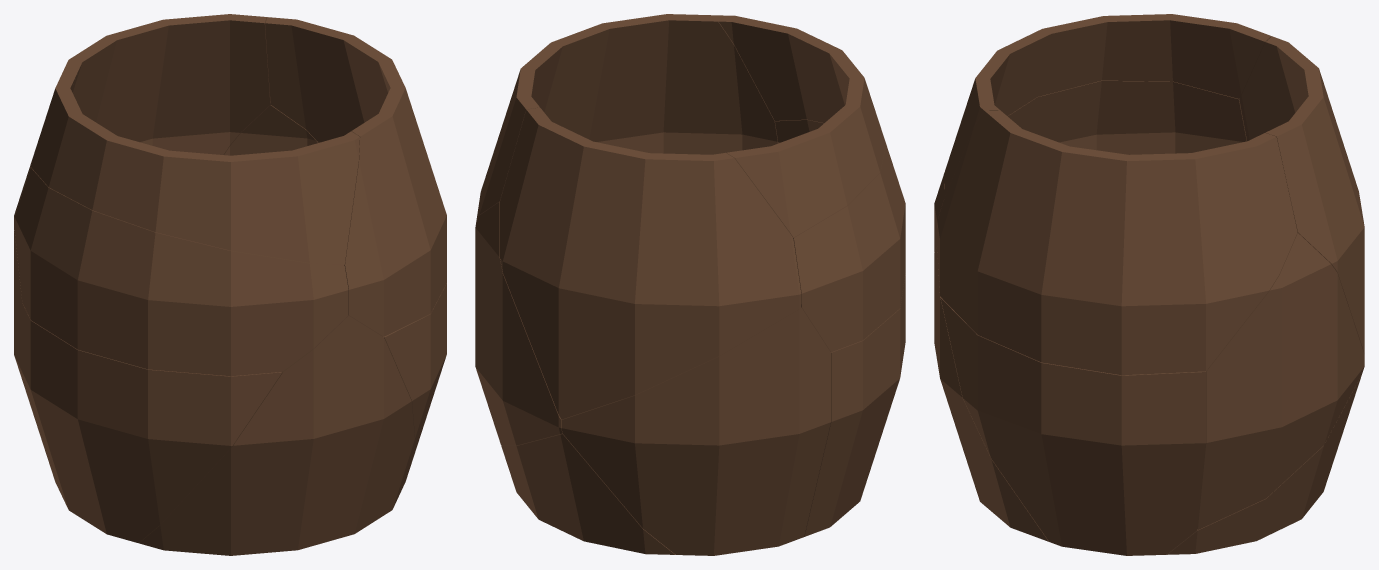
File: barrel_pieces.gltf
3 renders of one model, left to right at view 1: azimuth 30°, elevation 25°; view 2: azimuth 150°, elevation 25°; view 3: azimuth 270°, elevation 25°, orthographic.
Parts seen in each view (by area): view 1: barrel_piece.005, barrel_piece.001, barrel_piece.007, barrel_piece.008, barrel_piece.009, barrel_piece.003, barrel_piece.006, barrel_piece.010, barrel_piece.002; view 2: barrel_piece.003, barrel_piece.002, barrel_piece.009, barrel_piece.007, barrel_piece.005, barrel_piece.008, barrel_piece.010, barrel_piece.004; view 3: barrel_piece.009, barrel_piece.006, barrel_piece.010, barrel_piece.007, barrel_piece.003, barrel_piece.005, barrel_piece.004, barrel_piece.001.
Part boxes in pixels (x1,y1,x2,y2): barrel_piece.005: (14,167,348,376); barrel_piece.001: (139,315,414,555); barrel_piece.007: (31,68,359,264); barrel_piece.008: (22,303,282,543); barrel_piece.009: (265,17,446,336); barrel_piece.003: (14,14,270,229); barrel_piece.006: (383,283,446,487); barrel_piece.010: (223,104,317,155); barrel_piece.002: (14,230,61,494); barrel_piece.003: (500,107,801,419); barrel_piece.002: (561,307,830,555); barrel_piece.009: (476,14,778,220); barrel_piece.007: (718,15,885,237); barrel_piece.005: (775,119,905,352); barrel_piece.008: (804,273,905,536); barrel_piece.010: (475,202,562,445); barrel_piece.004: (501,433,675,554); barrel_piece.009: (937,110,1297,375); barrel_piece.006: (940,297,1205,555); barrel_piece.010: (1197,233,1364,529); barrel_piece.007: (944,14,1271,197); barrel_piece.003: (1239,36,1364,353); barrel_piece.005: (934,80,1246,251); barrel_piece.004: (1167,375,1361,554); barrel_piece.001: (934,247,1048,541).
Bounding box in the file's own units: 1.89 × 1.91 × 1.89.
